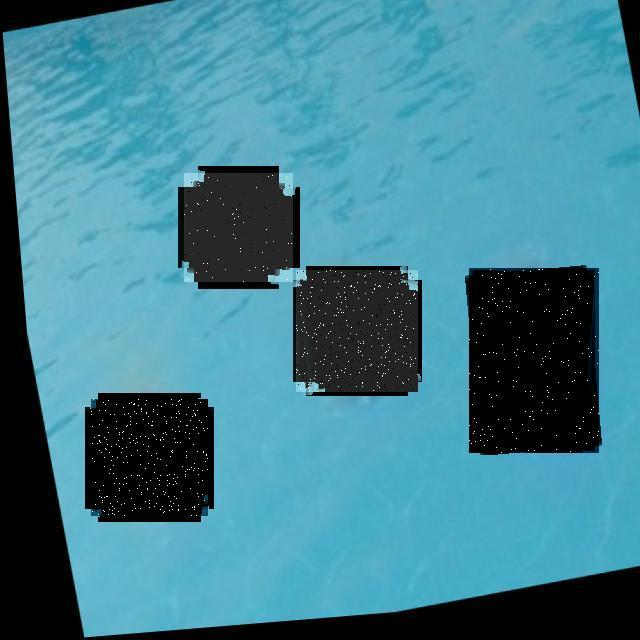swimming: (469, 268, 599, 453), (296, 270, 418, 392), (91, 399, 208, 516), (184, 173, 293, 282)
